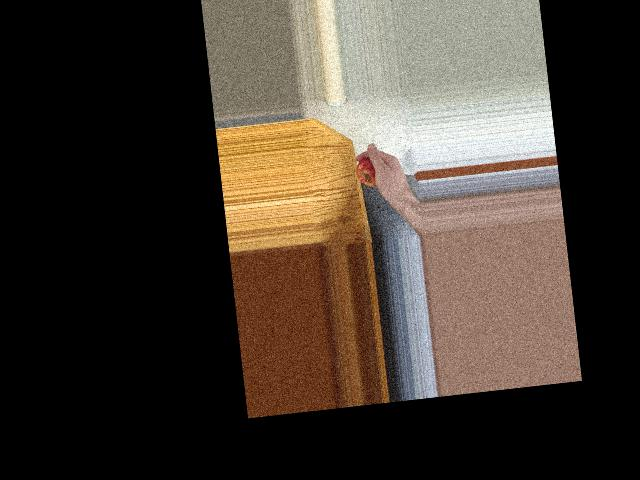apple: (353, 154, 391, 192)
